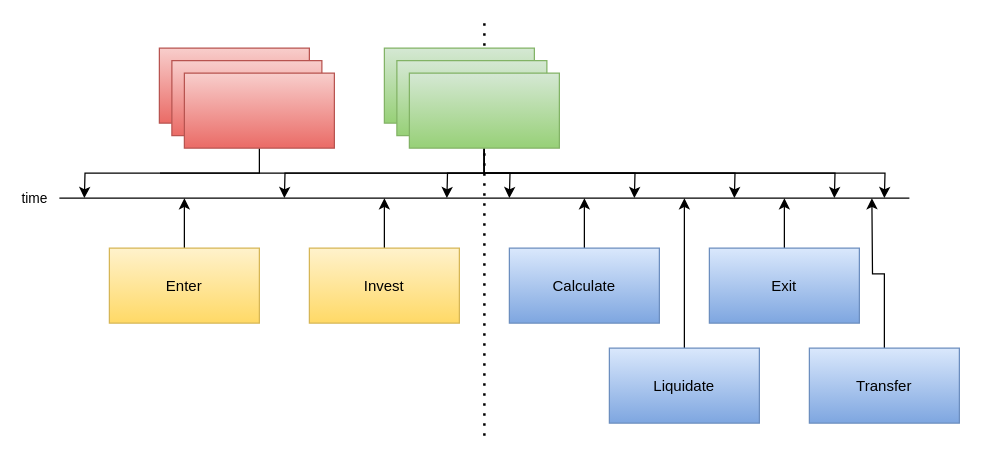
This 981x459 diagram has some shape labels left out. Here are the shapes that lost their labels. From the top down, the box of each, then its label:
(183, 72, 334, 148): Metadata events
(408, 72, 559, 148): Donations
